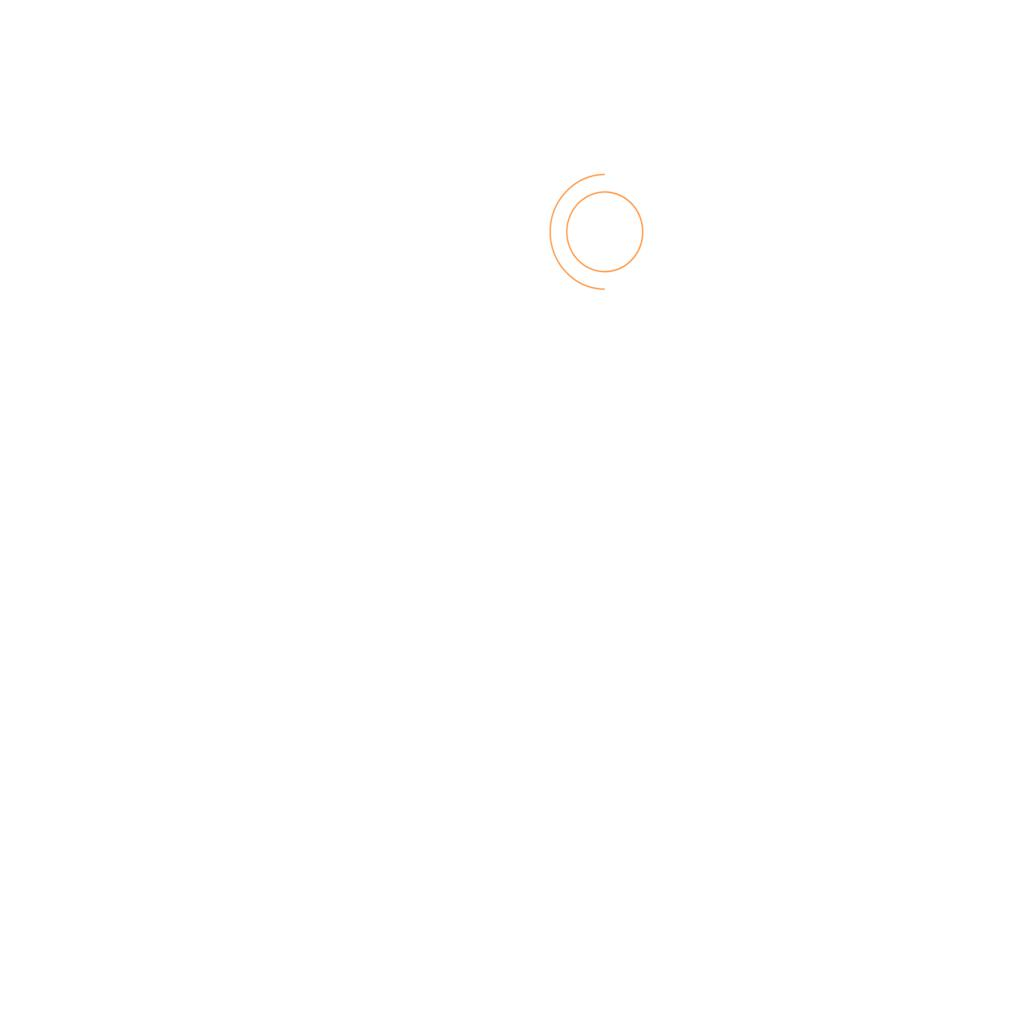Scheinwerfer_fuer_Alarmbeleuchtung: (544, 169, 656, 301)
